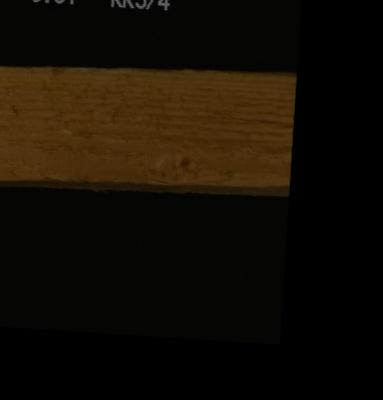small_knot: (170, 150, 205, 178)
